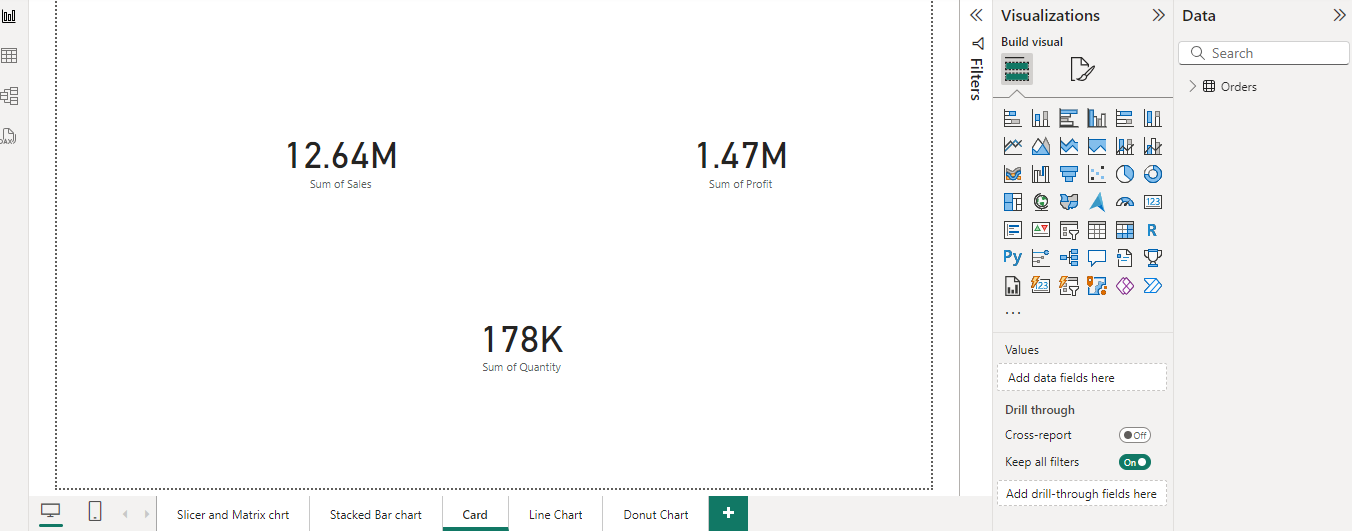

What the dashboard file says about the page in this screenshot:
{"tool":"powerbi","page":{"name":"Card","canvas":[1280,720],"ordinal":2},"visuals":[{"type":"card","fields":{"Values":["Sum(Orders.Sales)"]},"box":[275.1,159.5,279.5,153.7],"z":0},{"type":"card","fields":{"Values":["Sum(Orders.Profit)"]},"box":[796.1,159.5,408.3,153.7],"z":1000},{"type":"card","fields":{"Values":["Sum(Orders.Quantity)"]},"box":[503.4,414.1,352.7,181.5],"z":2000},{"type":"slicer","fields":{"Values":["Orders.State"]},"box":[833.7,8.8,446.3,150.7],"z":3000}]}

Visuals, with their boxes on the page's 1280x720 design canvas (x1, y1, x2, y2). These are canvas units, not pixel positions in the 1352x531 screenshot, which may show the page scaled, cropped or inside an application window:
card - Sum(Orders.Sales): detection(275, 160, 555, 313)
card - Sum(Orders.Profit): detection(796, 160, 1204, 313)
card - Sum(Orders.Quantity): detection(503, 414, 856, 596)
slicer - Orders.State: detection(834, 9, 1280, 160)
